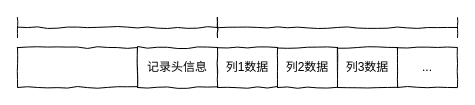
The diagram is 475 pixels wide and 105 high, and some of its shapes have lost their labels. Each missing label, with the box of its shape:
字段长度偏移列表: (16, 46, 138, 88)
数据部分: (216, 16, 458, 38)
额外信息: (16, 16, 218, 38)
